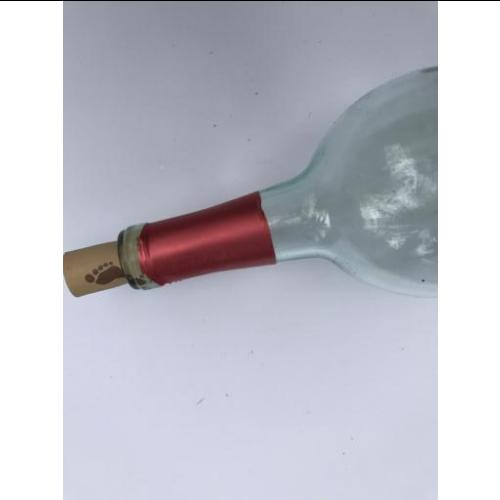glass: (131, 65, 438, 296)
